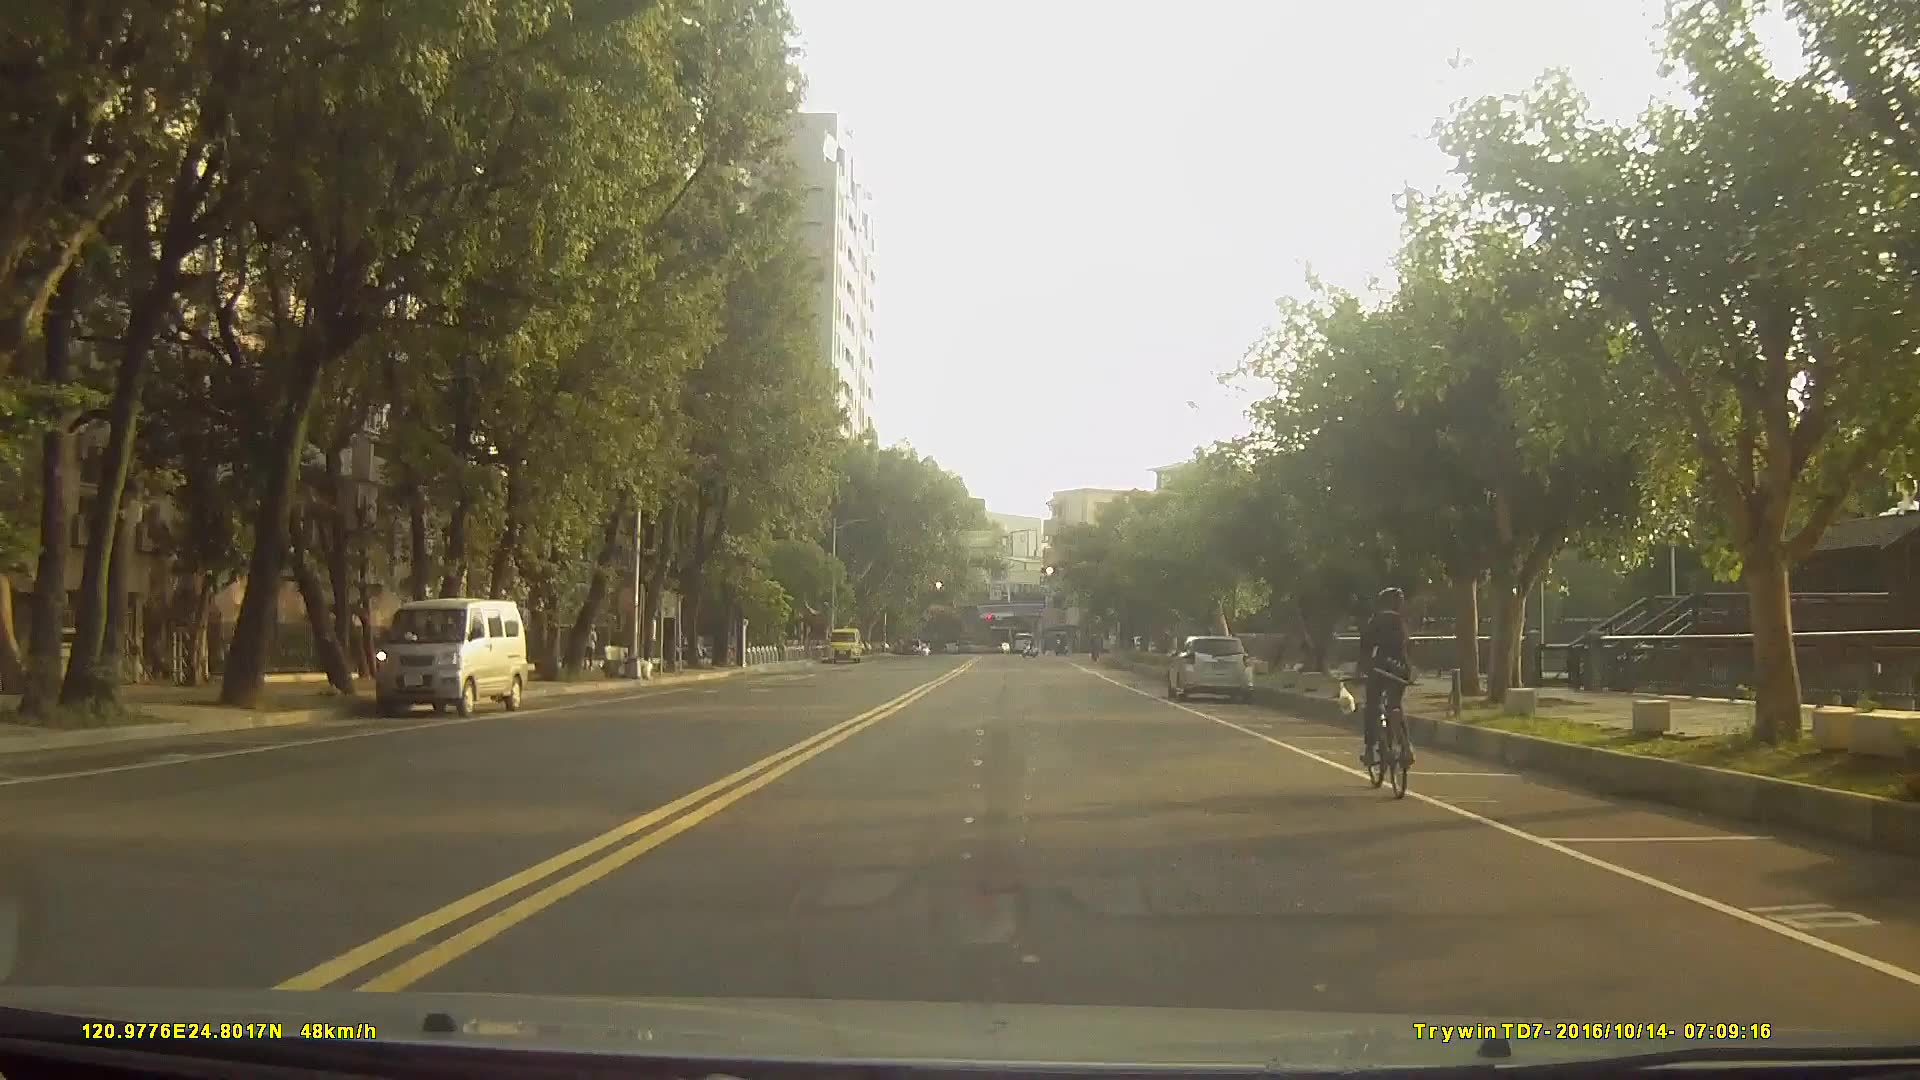rider: (1352, 584, 1414, 794)
vehicle: (376, 594, 527, 716), (1167, 631, 1254, 702), (1008, 626, 1033, 652)
